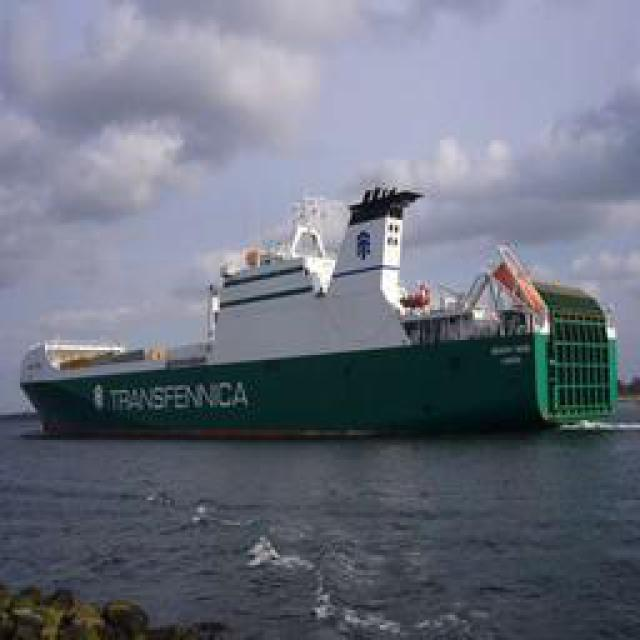Ship: (26, 199, 611, 439)
